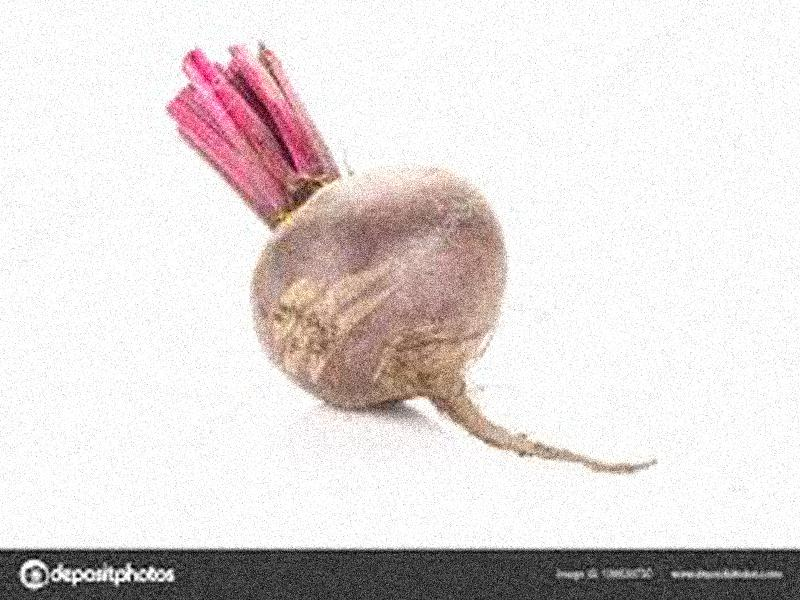Beet: (170, 44, 657, 472)
